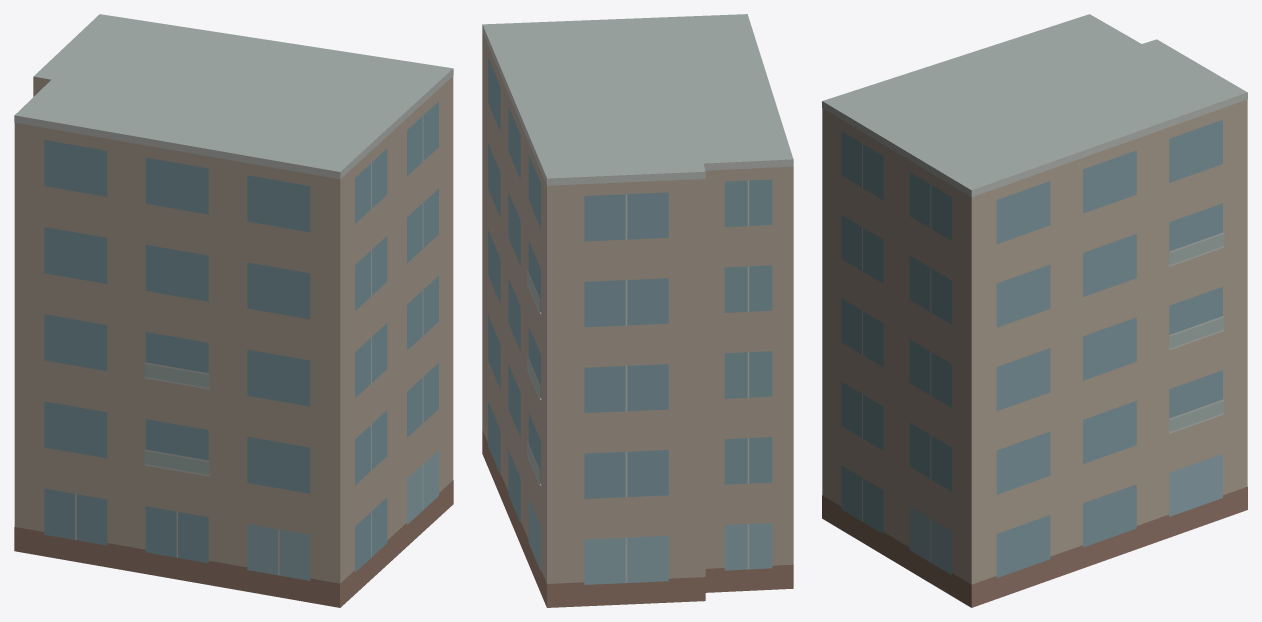
File: survey-upis-32779314.glb
The picture shows the model from 3 angles, left to right: view 1: azimuth 30°, elevation 25°; view 2: azimuth 150°, elevation 25°; view 3: azimuth 270°, elevation 25°; orthographic projection. The views are drawn at different scales.
Visible parts, largest first — view 1: survey-upis-32779314.tmp; view 2: survey-upis-32779314.tmp; view 3: survey-upis-32779314.tmp.
Boxes of the visible parts, <box> form: survey-upis-32779314.tmp: <box>14,14,453,607</box>; survey-upis-32779314.tmp: <box>482,14,793,607</box>; survey-upis-32779314.tmp: <box>822,14,1247,607</box>.
Size of the model in its own units: 13.3 by 14.67 by 13.56.
